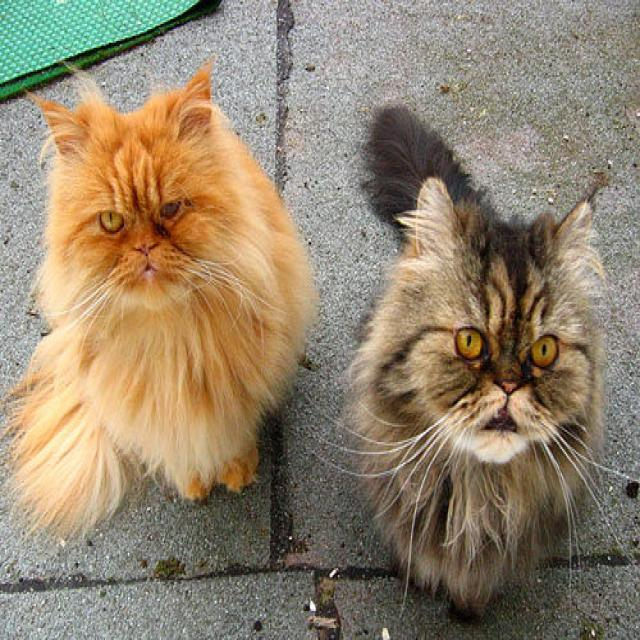cat: (17, 74, 309, 532), (349, 103, 605, 619)
